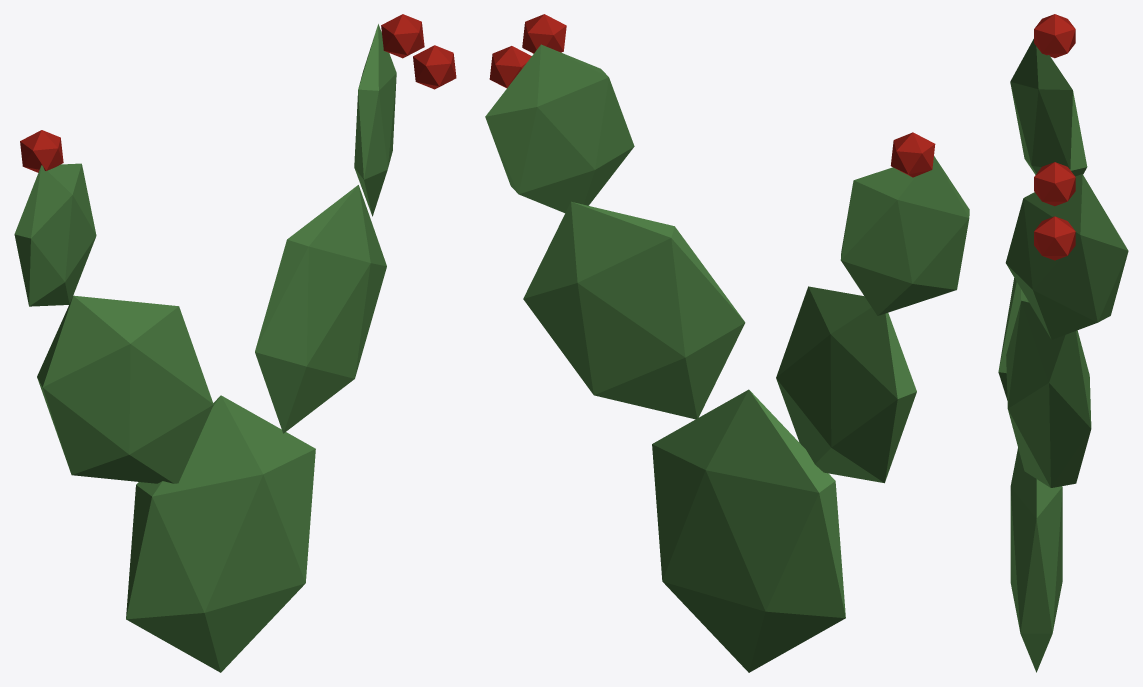
The model's file is SM_Cactus_Prickly_Pear.obj.
3 renders of one model, left to right at view 1: azimuth 30°, elevation 25°; view 2: azimuth 150°, elevation 25°; view 3: azimuth 270°, elevation 25°, orthographic. The views are drawn at different scales.
Visible parts, largest first — view 1: SM_Cactus_Prickly_Pear; view 2: SM_Cactus_Prickly_Pear; view 3: SM_Cactus_Prickly_Pear.
Boxes of the visible parts, x1=… form: SM_Cactus_Prickly_Pear: x1=14, y1=14, x2=456, y2=672; SM_Cactus_Prickly_Pear: x1=485, y1=14, x2=969, y2=672; SM_Cactus_Prickly_Pear: x1=998, y1=14, x2=1128, y2=672.
Bounding box in the file's own units: 0.8535 × 1.09 × 0.213.
